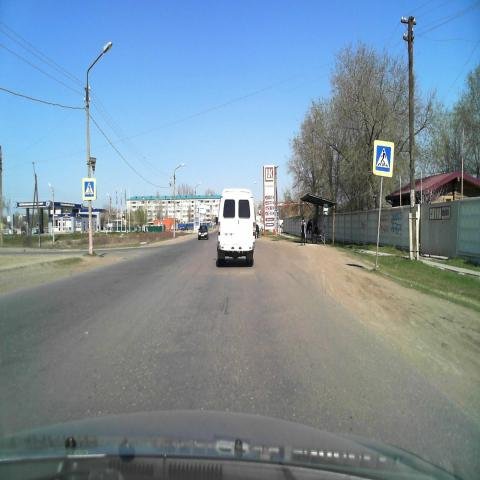5_19_1: (372, 139, 393, 178), (82, 178, 97, 201)
